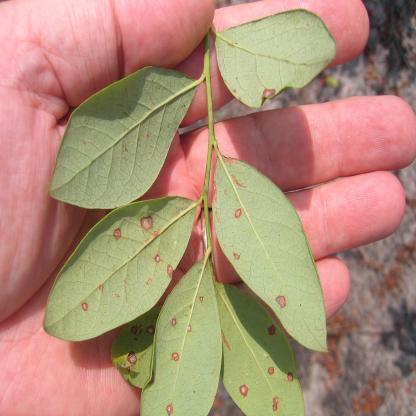Blueberry leaf: (38, 61, 208, 230), (212, 139, 334, 365), (31, 198, 210, 349), (193, 278, 312, 416), (138, 250, 230, 416), (211, 15, 347, 112)
